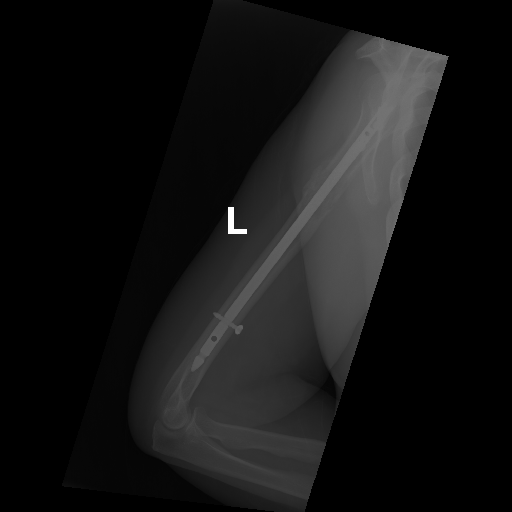implant: (190, 296, 244, 371)
